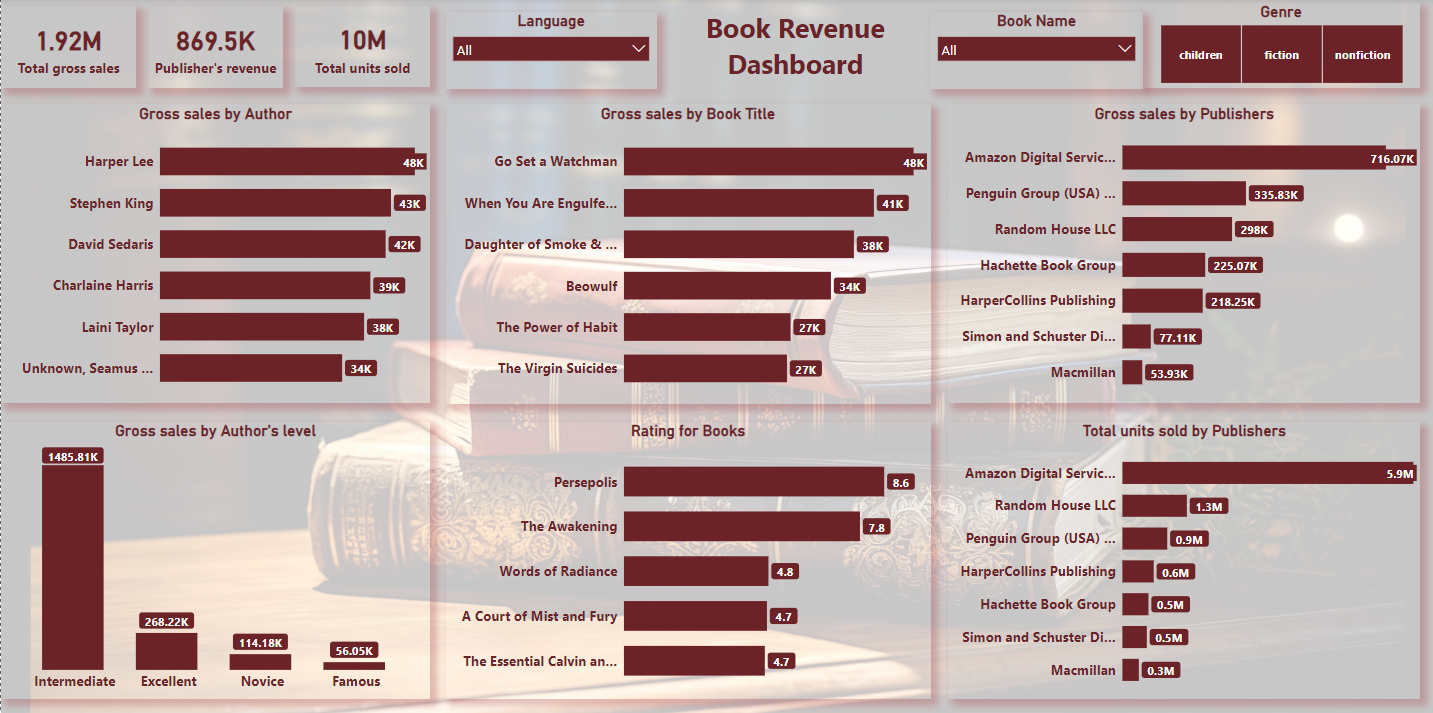

The dashboard page shown, as its layout file describes it:
{"tool":"powerbi","page":{"name":"Page 1","canvas":[2000,1000],"ordinal":0},"visuals":[{"type":"barChart","title":"Total units sold by Publishers","fields":{"Category":["Books_Data_Clean.Publisher "],"Y":["Books_Data_Clean.units sold"]},"box":[1323.4,594.2,659.1,386.6],"z":0},{"type":"columnChart","title":"Gross sales by Author''s level","fields":{"Category":["Books_Data_Clean.Author_Rating"],"Y":["Books_Data_Clean.gross sales"]},"box":[0,594.2,599.4,386.6],"z":1000},{"type":"card","fields":{"Values":["Books_Data_Clean.gross sales"]},"box":[0,13.5,189,114.7],"z":2000},{"type":"card","fields":{"Values":["Books_Data_Clean.publisher revenue"]},"box":[204.7,13.5,189,114.7],"z":3000},{"type":"card","fields":{"Values":["Books_Data_Clean.units sold"]},"box":[409.4,13.5,189,112.5],"z":4000},{"type":"barChart","title":"Rating for Books","fields":{"Category":["Books_Data_Clean.Book Name"],"Y":["Books_Data_Clean.Book_average_rating"]},"box":[620.9,593.9,677.1,386.9],"z":5000},{"type":"barChart","title":"Gross sales by Book Title","fields":{"Category":["Books_Data_Clean.Book Name"],"Y":["Books_Data_Clean.gross sales"]},"box":[620.9,150.7,677.1,418.4],"z":6000},{"type":"barChart","title":"Gross sales by Author","fields":{"Category":["Books_Data_Clean.Author"],"Y":["Books_Data_Clean.gross sales"]},"box":[0,150.5,599.4,417.8],"z":7000},{"type":"barChart","title":"Gross sales by Publishers","fields":{"Category":["Books_Data_Clean.Publisher "],"Y":["Books_Data_Clean.gross sales"]},"box":[1323.4,150.5,659.1,417.8],"z":8000},{"type":"slicer","title":"Book Name","fields":{"Values":["Books_Data_Clean.Book Name"]},"box":[1298,20.2,297,108],"z":9000},{"type":"slicer","title":"Genre","fields":{"Values":["Books_Data_Clean.genre"]},"box":[1595,6.7,386.9,119.2],"z":10000},{"type":"slicer","title":"Language","fields":{"Values":["Books_Data_Clean.language_code"]},"box":[620.9,20.2,294.7,108],"z":11000},{"type":"textbox","box":[940.3,13.5,337.4,114.7],"z":12000}]}

Visuals, with their boxes in screenshot pixels (x1, y1, x2, y2), scaled from the page's 2000x1000 canvas onto the 1433x713 screenshot:
"Total units sold by Publishers" barChart: 948:424:1420:699
"Gross sales by Author''s level" columnChart: 0:424:429:699
card - Books_Data_Clean.gross sales: 0:10:135:91
card - Books_Data_Clean.publisher revenue: 147:10:282:91
card - Books_Data_Clean.units sold: 293:10:429:90
"Rating for Books" barChart: 445:423:930:699
"Gross sales by Book Title" barChart: 445:107:930:406
"Gross sales by Author" barChart: 0:107:429:405
"Gross sales by Publishers" barChart: 948:107:1420:405
"Book Name" slicer: 930:14:1143:91
"Genre" slicer: 1143:5:1420:90
"Language" slicer: 445:14:656:91
textbox: 674:10:915:91
